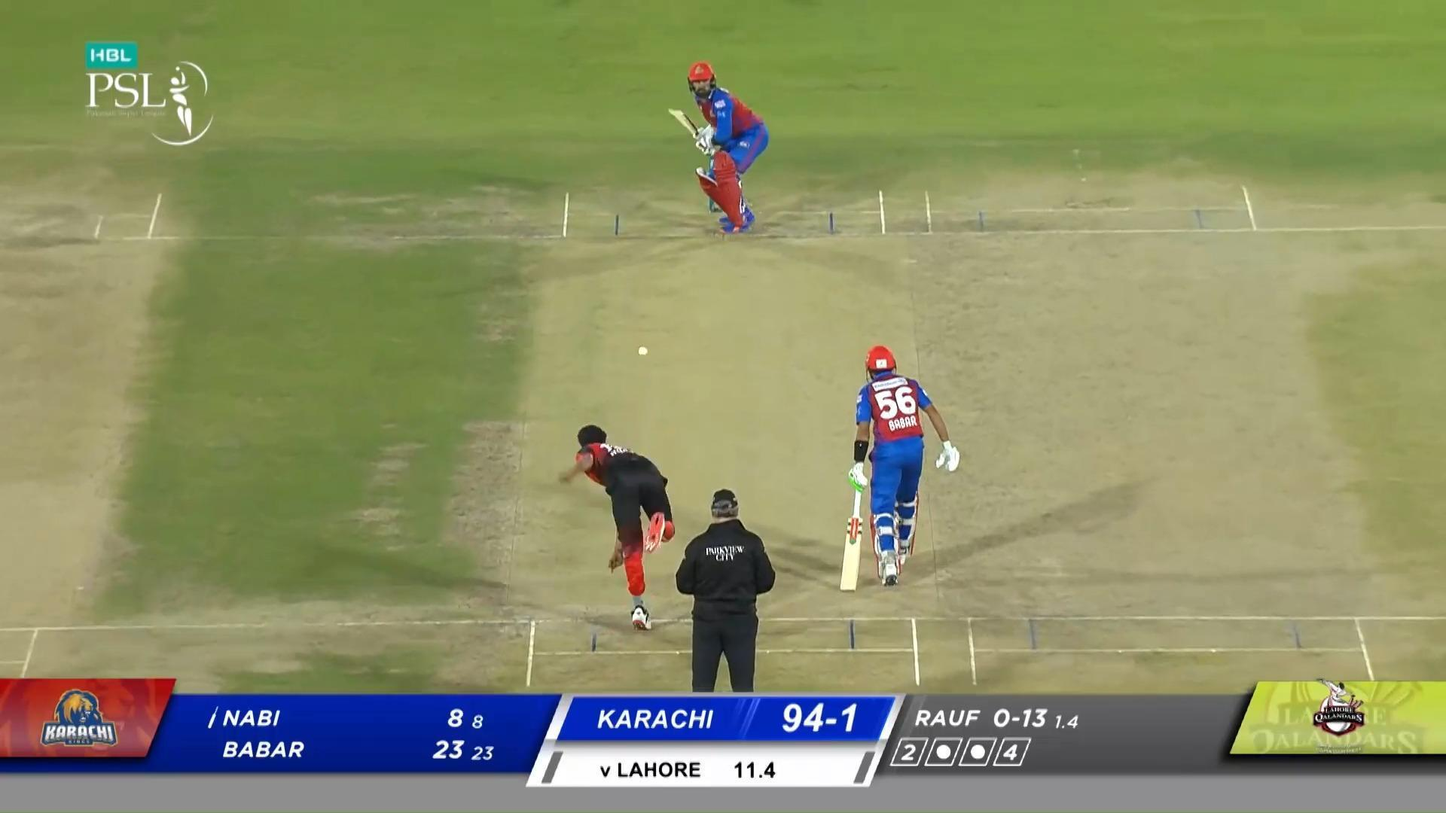BM 1: (667, 62, 770, 234)
BO: (558, 421, 676, 632)
